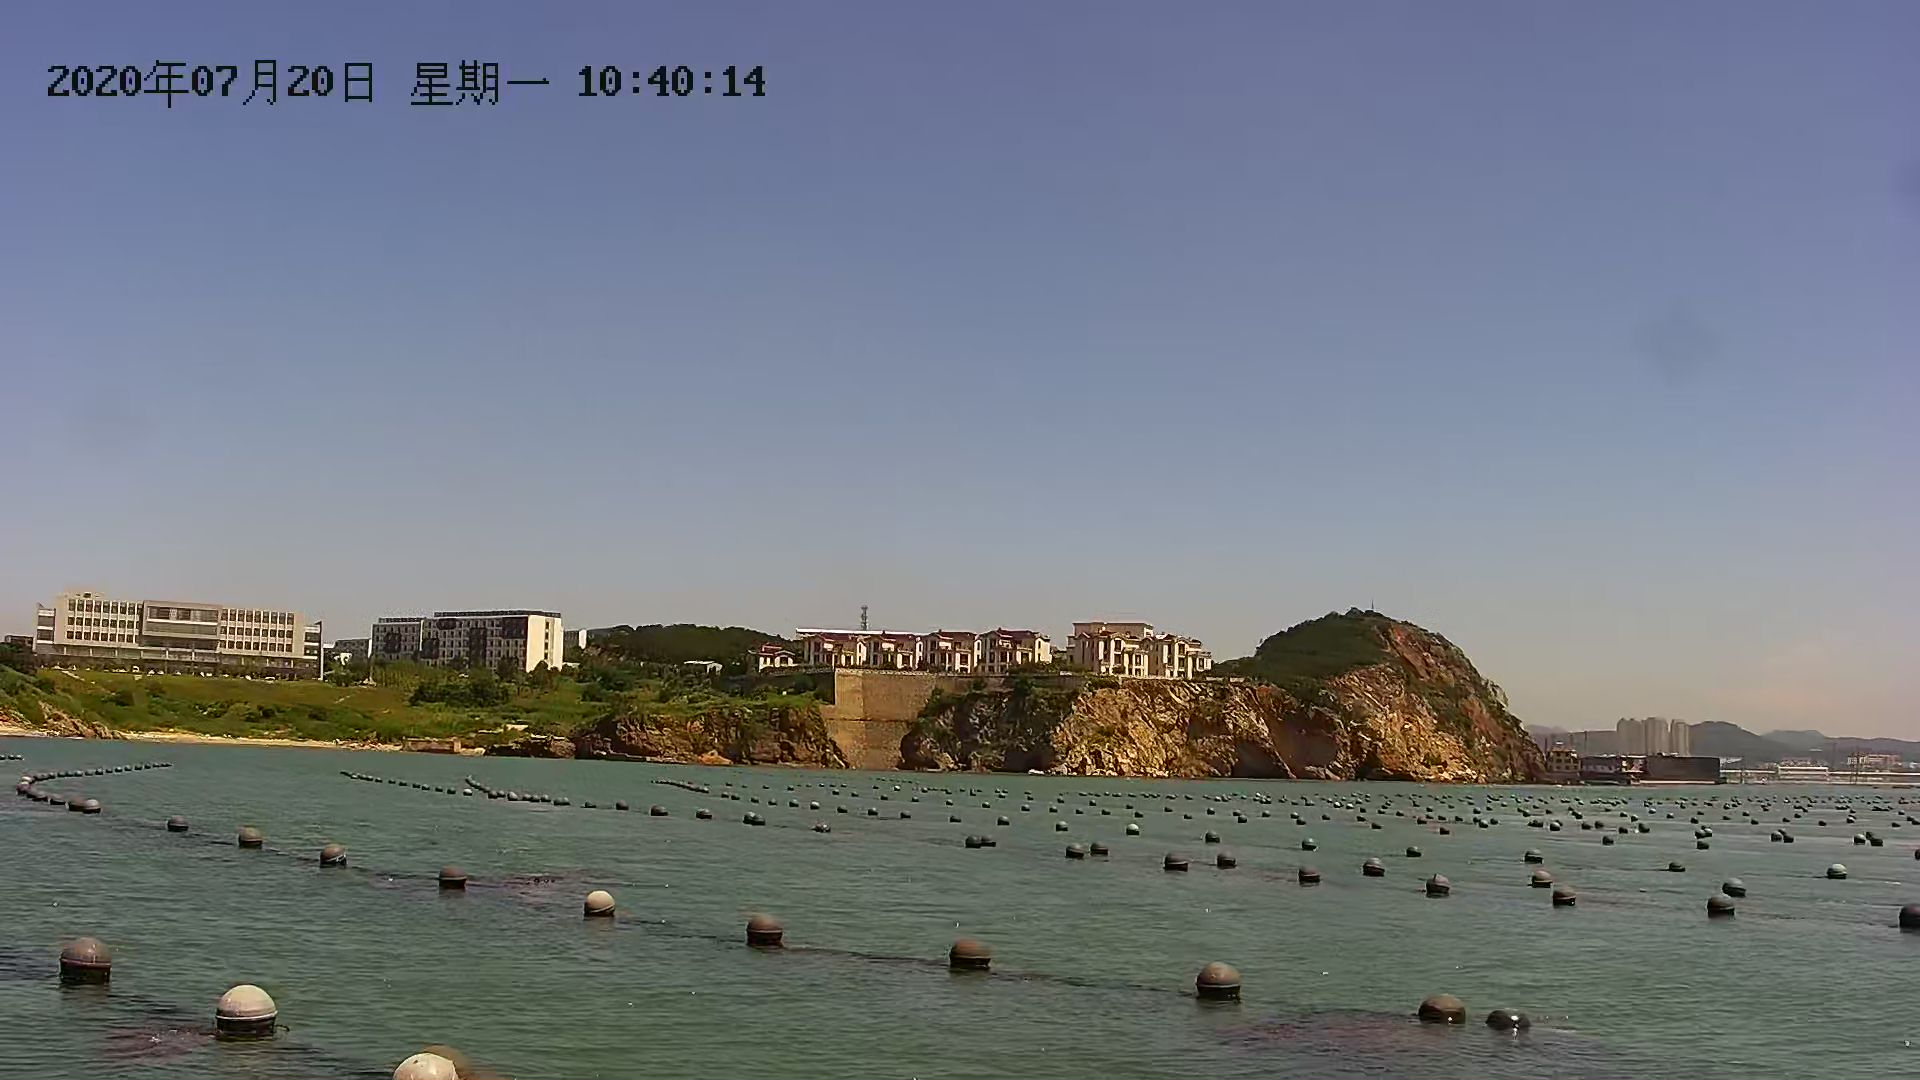ball: (210, 982, 286, 1036), (54, 932, 116, 986), (1193, 955, 1247, 1006), (943, 931, 1000, 978), (1414, 985, 1472, 1029), (744, 910, 793, 953), (433, 858, 476, 895), (313, 836, 353, 874), (578, 887, 620, 924), (1704, 887, 1745, 924), (233, 820, 273, 855), (1160, 847, 1197, 876), (1549, 884, 1582, 915), (1358, 853, 1393, 884), (164, 810, 196, 840), (1085, 836, 1118, 864), (1721, 874, 1755, 901), (1425, 870, 1455, 901), (1824, 860, 1853, 887), (1211, 849, 1242, 873), (1523, 843, 1549, 870), (1530, 866, 1559, 891), (953, 829, 982, 855), (1302, 865, 1327, 891), (1064, 836, 1088, 858)
